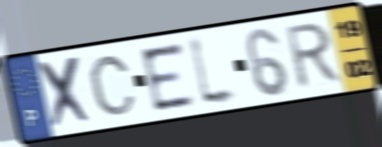6: (244, 25, 291, 100)
C: (87, 54, 138, 118)
E: (137, 40, 198, 115)
L: (186, 32, 244, 111)
R: (284, 19, 345, 92)
X: (35, 53, 96, 132)
